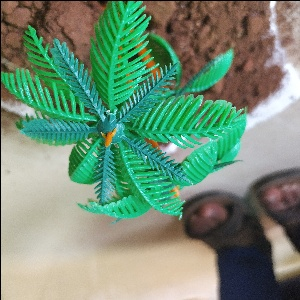plant: (18, 19, 247, 209)
